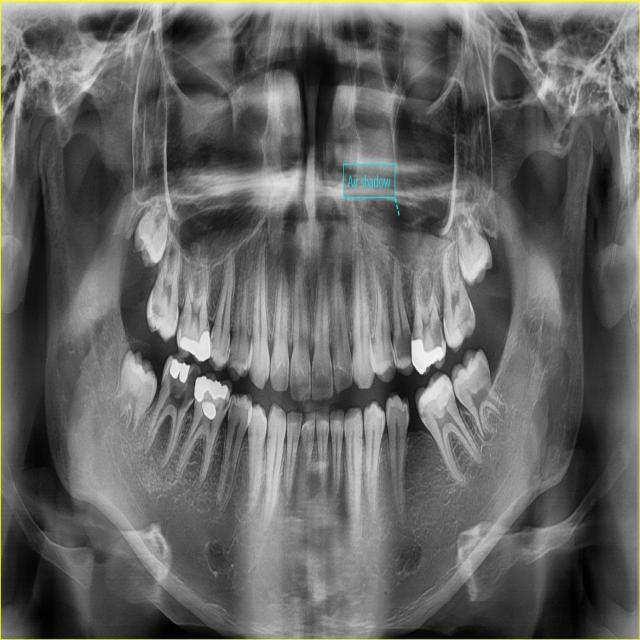Caries: (168, 363, 200, 408), (458, 297, 475, 339), (396, 326, 411, 366), (431, 318, 445, 355), (148, 302, 162, 328), (177, 308, 187, 337), (172, 301, 179, 328), (222, 392, 231, 413), (419, 408, 428, 424), (389, 345, 395, 365), (412, 324, 419, 340), (229, 397, 234, 415), (210, 332, 215, 347), (228, 349, 234, 360), (311, 367, 316, 380), (329, 364, 333, 379), (206, 320, 210, 331), (307, 367, 310, 380)
Filling: (411, 340, 445, 374), (421, 374, 452, 410), (179, 332, 211, 361), (194, 374, 227, 401), (170, 358, 190, 382), (202, 401, 216, 419)
